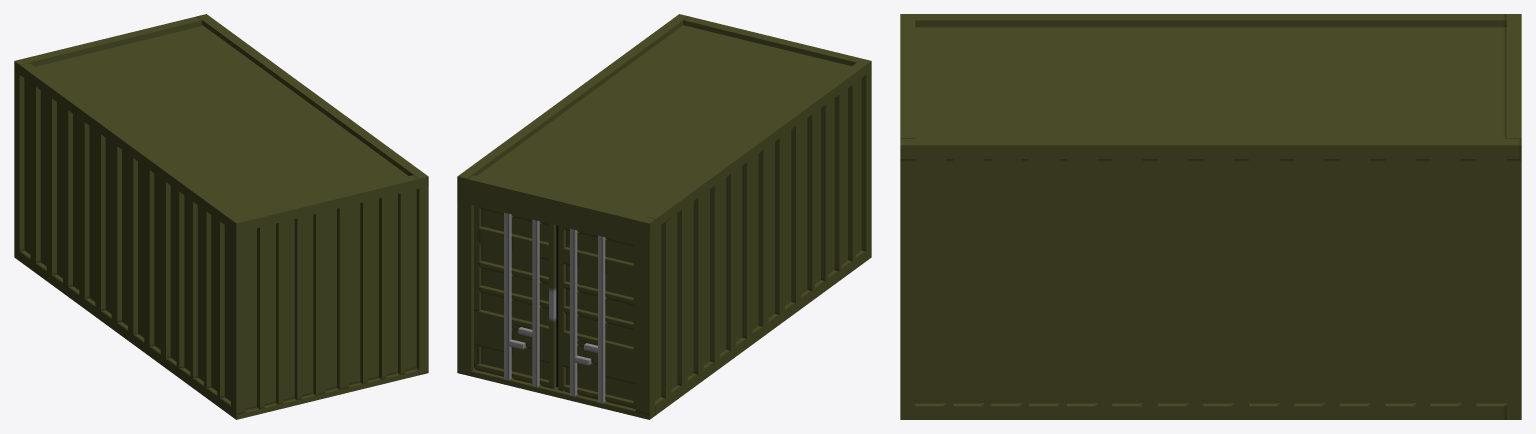
Rendered from k0obntyner_ziel.dae.
The picture shows the model from 3 angles, left to right: view 1: azimuth 30°, elevation 25°; view 2: azimuth 150°, elevation 25°; view 3: azimuth 270°, elevation 25°; orthographic projection. The views are drawn at different scales.
Parts seen in each view (by area): view 1: Content; view 2: Content; view 3: Content.
Boxes of the visible parts, x1,y1,x2,y2 form: Content: (14,14,428,419); Content: (457,14,871,419); Content: (900,14,1521,419).
Size of the model in its own units: 41 by 40 by 82.
1 material, 1 textured.
